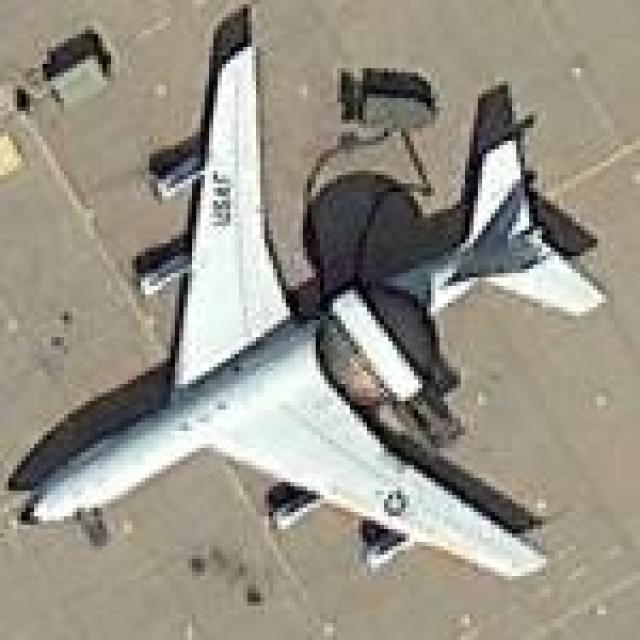E-3_TopDown: (0, 0, 606, 585)
